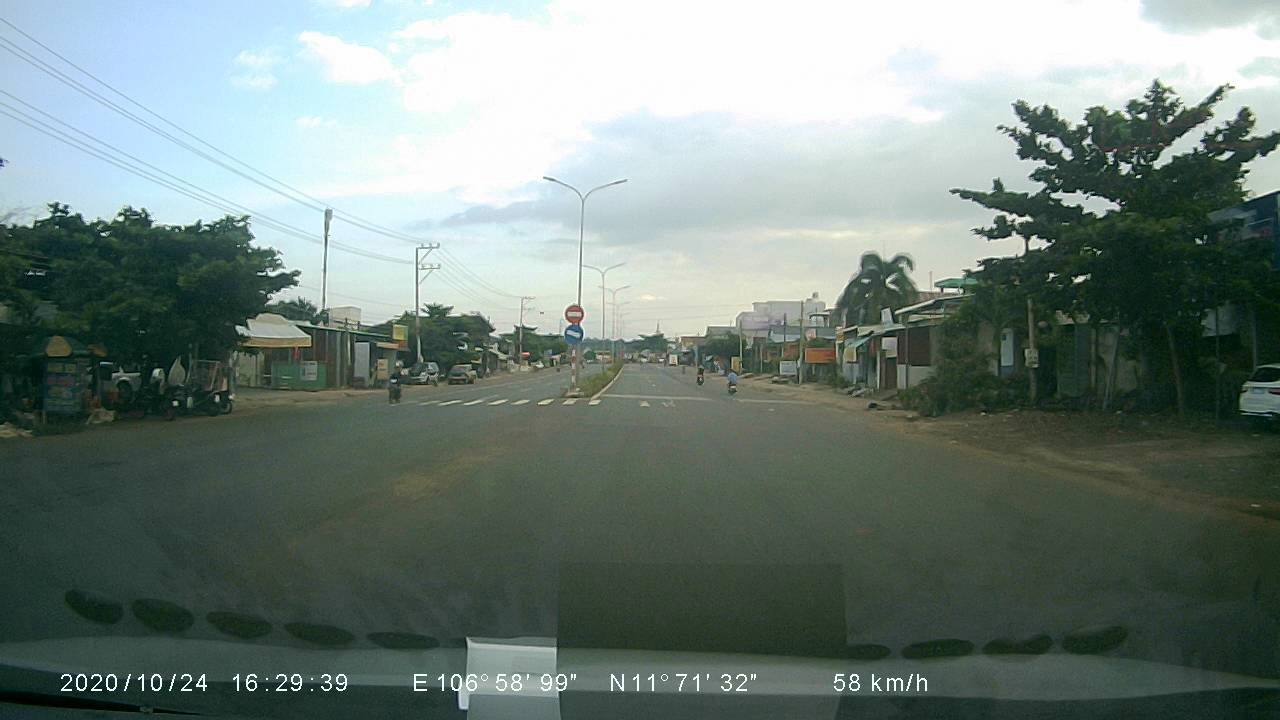Cam di nguoc chieu: (563, 302, 583, 323)
Huong di phai re phai: (561, 324, 585, 346)
